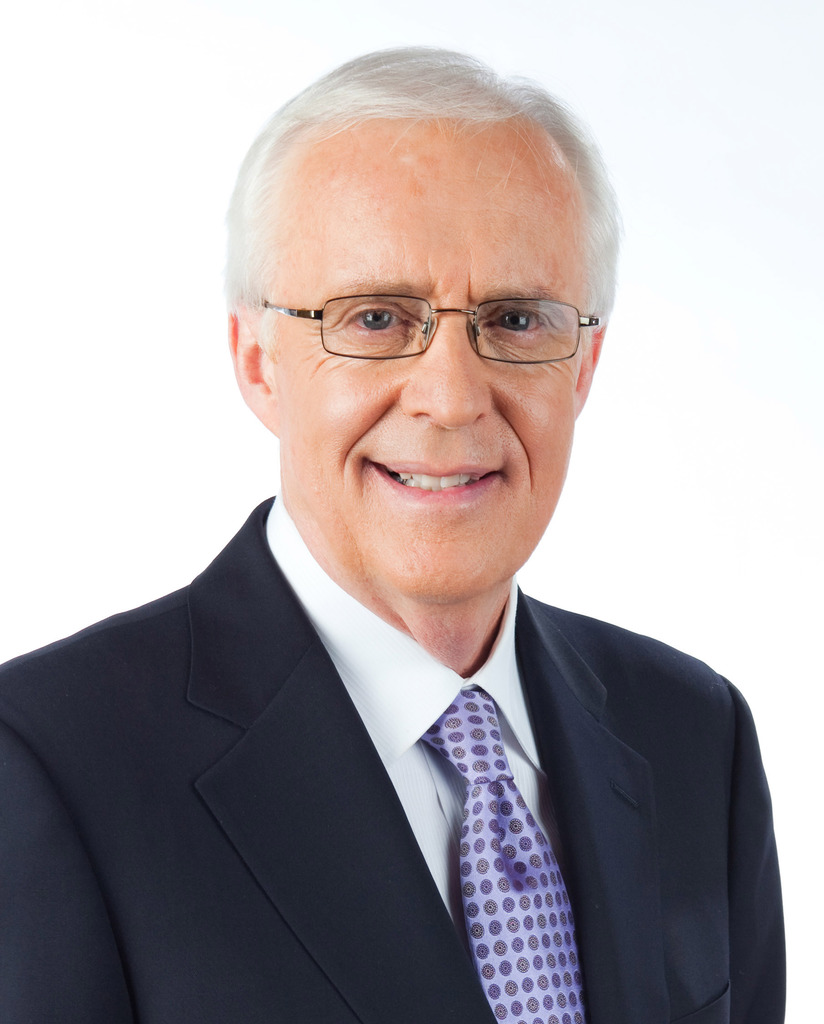Person: (0, 45, 786, 1024)
